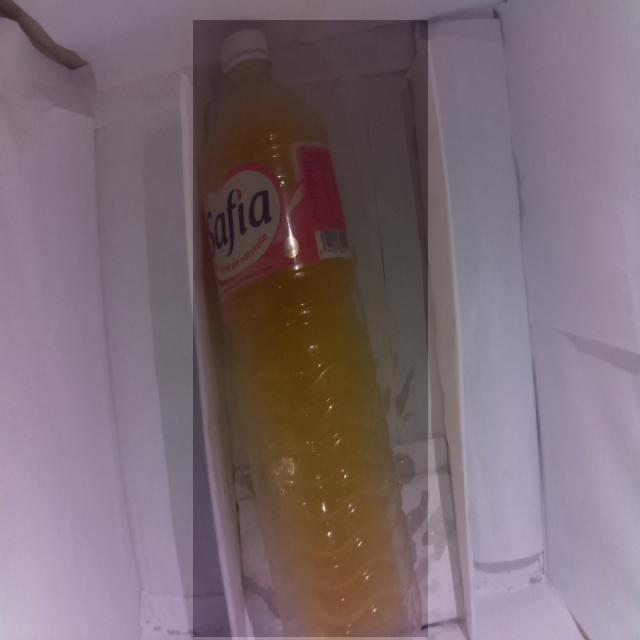bottle: (193, 20, 428, 637)
cap: (210, 30, 277, 77)
label: (199, 162, 359, 276)
